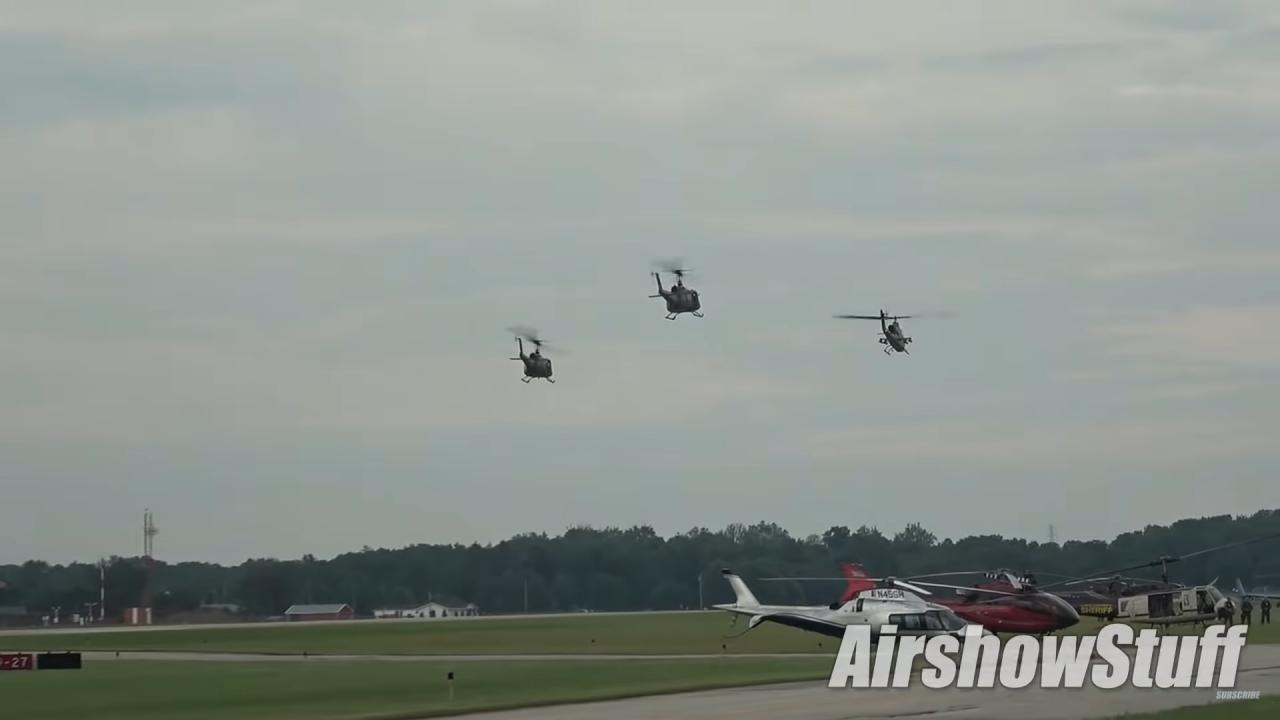Helicopter: (823, 288, 970, 373), (617, 243, 741, 330), (476, 314, 595, 398)
